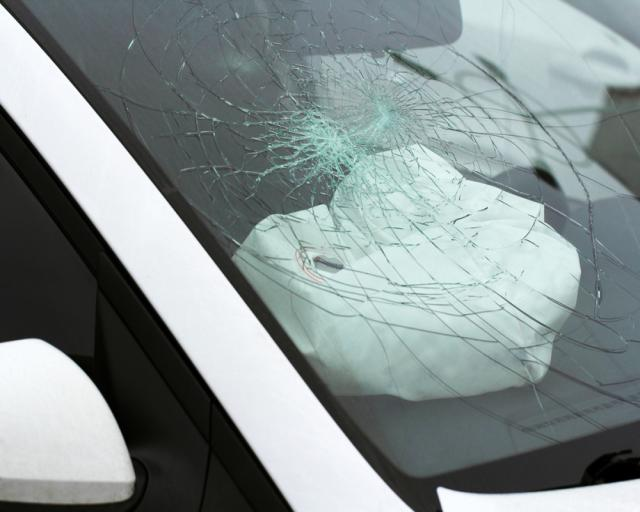glass shatter: (0, 0, 640, 512)
